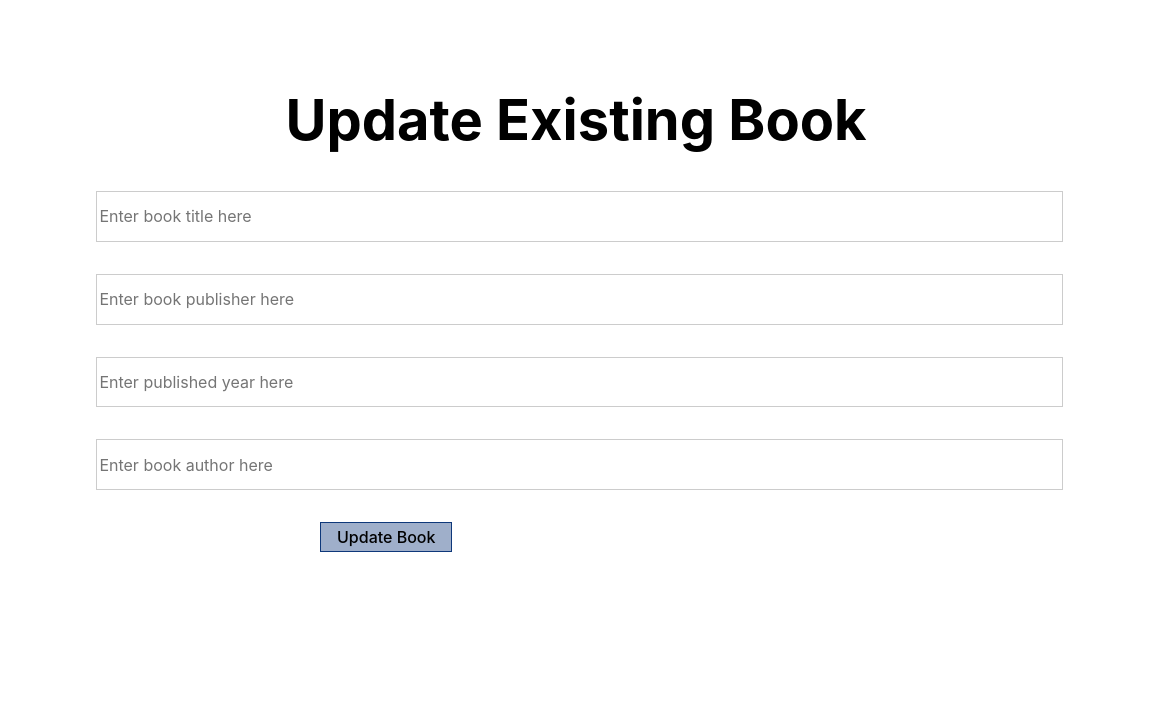
Test case: UpdateBook component › Test error message if atleast one input is invalid
The width and height of the screenshot is (1152, 720).
Set input values via the elements on the component
In the field with placeholder "Enter book title here": (579, 216) [96,191,1063,242], type "012345678901234567890123456789012345678912345"
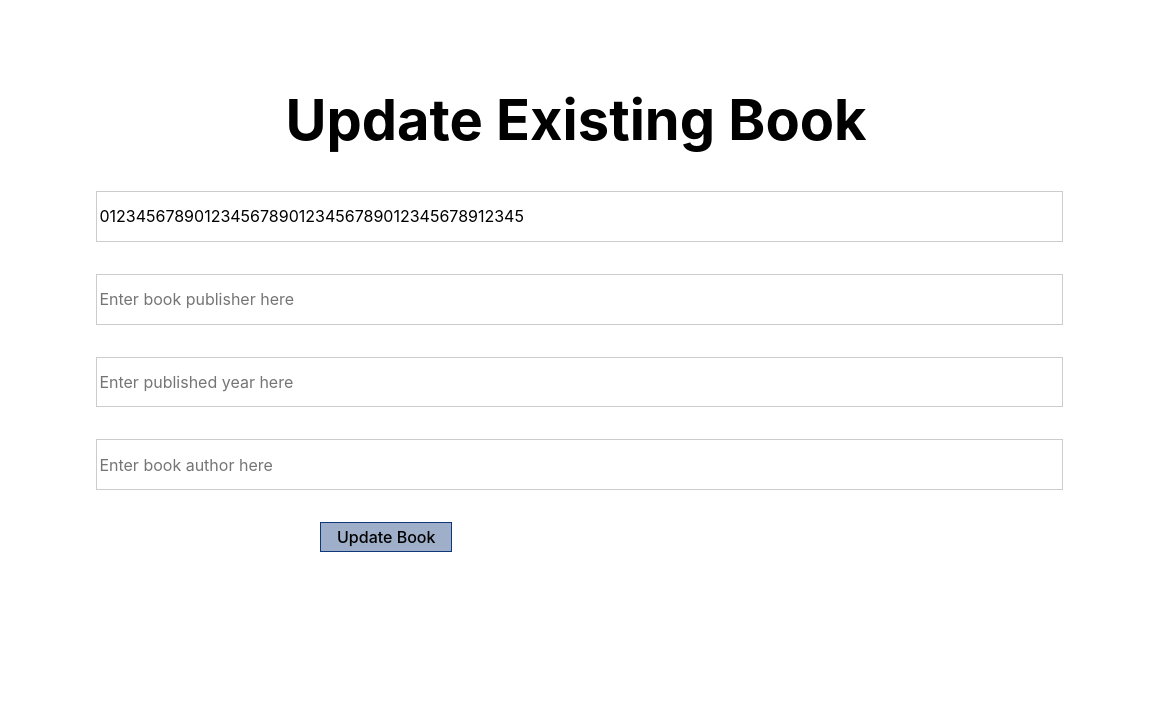
In the field with placeholder "Enter book publisher here": (579, 299) [96,274,1063,325], type "012345678901234567890123456789012345678912345"
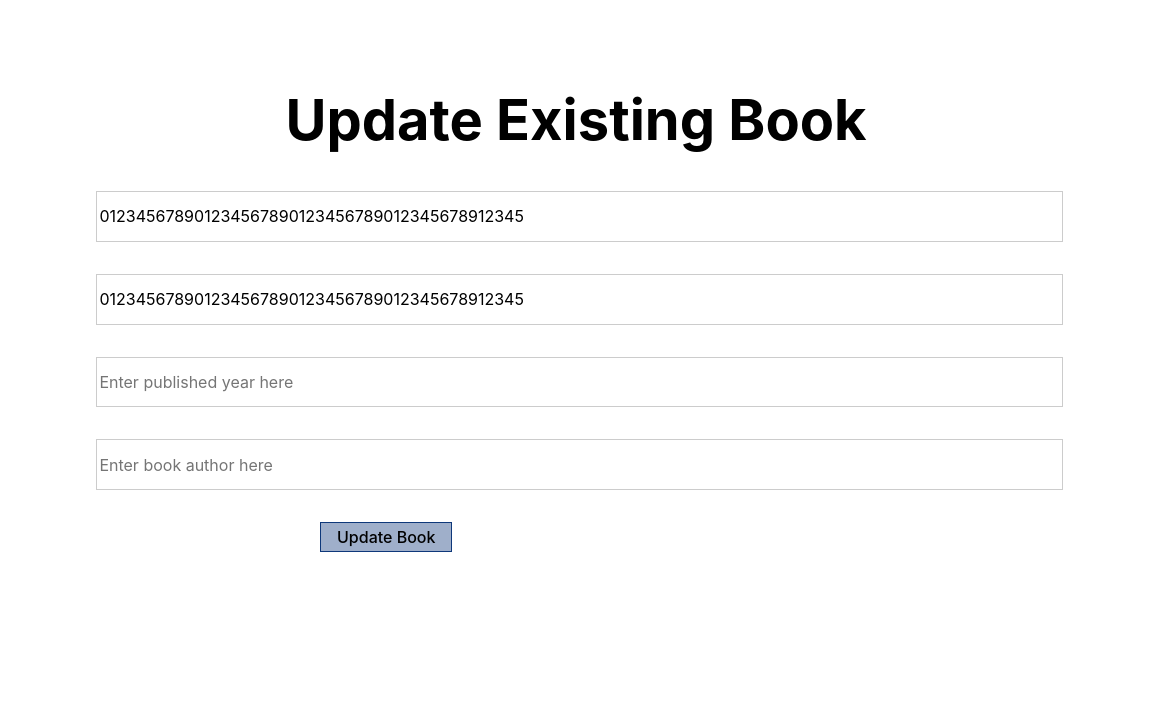
In the number field with placeholder "Enter published year here": (579, 382) [96,357,1063,407], type "2020"
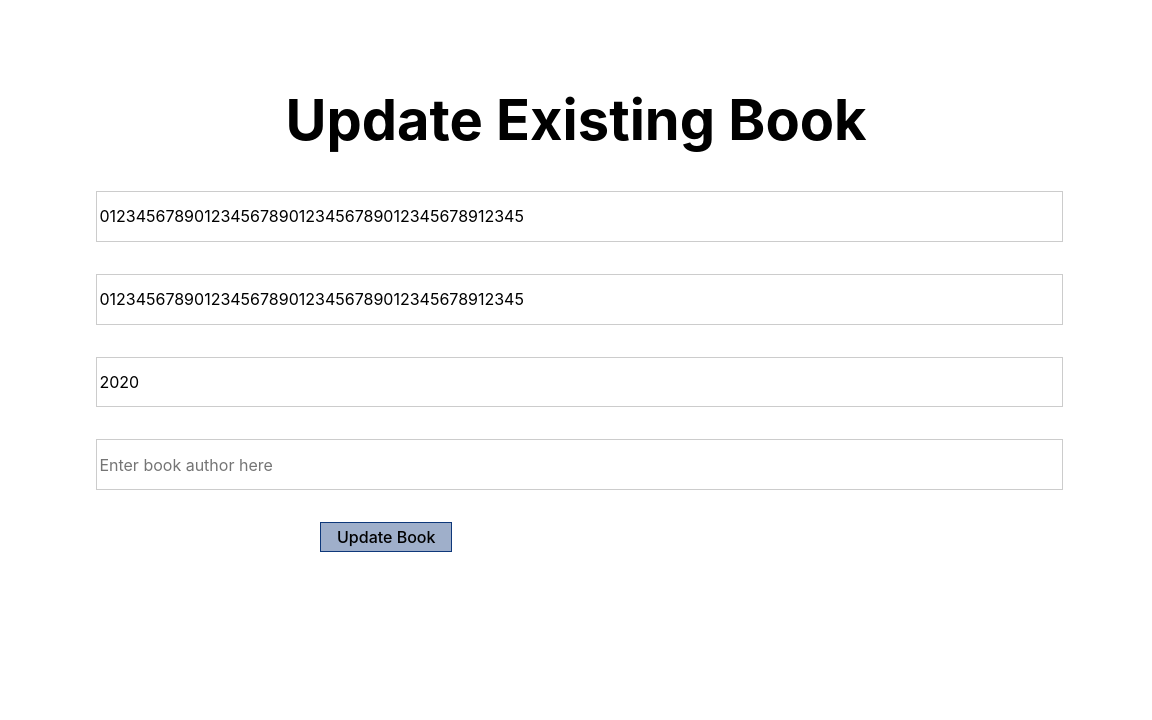
In the field with placeholder "Enter book author here": (579, 465) [96,439,1063,490], type "0123456789012345678901234567890123456789123456"
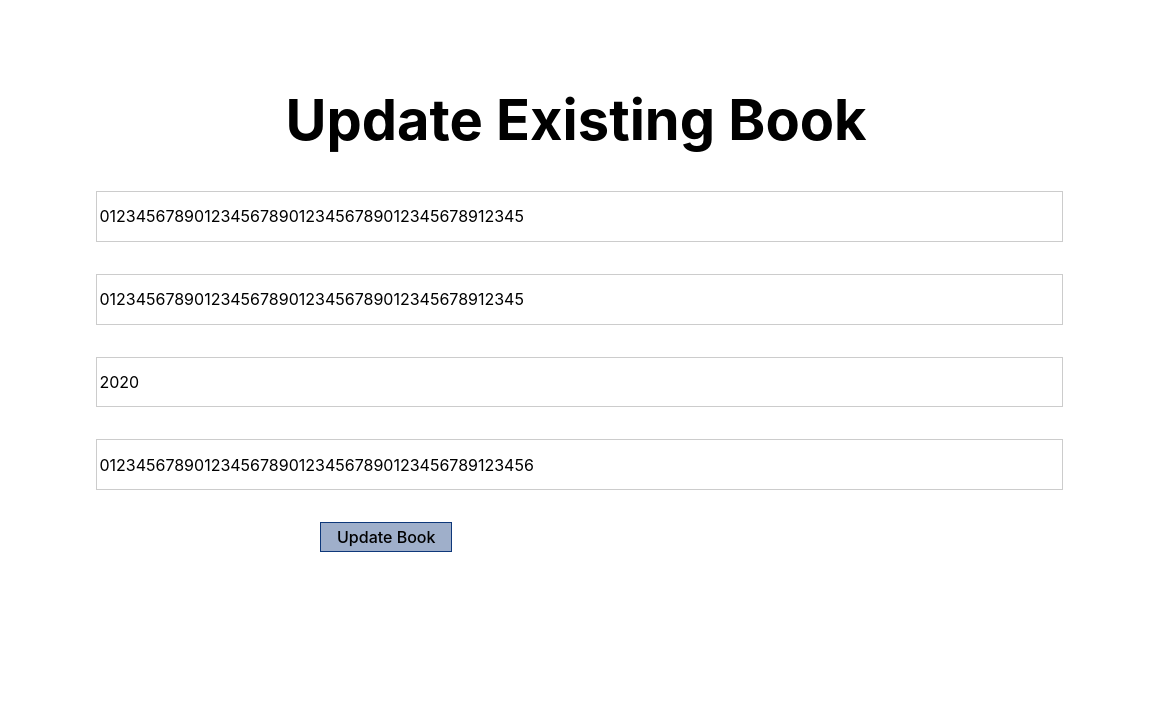
Click update book button on the component
Click the button "Update Book": click(386, 537) [320,522,452,552]
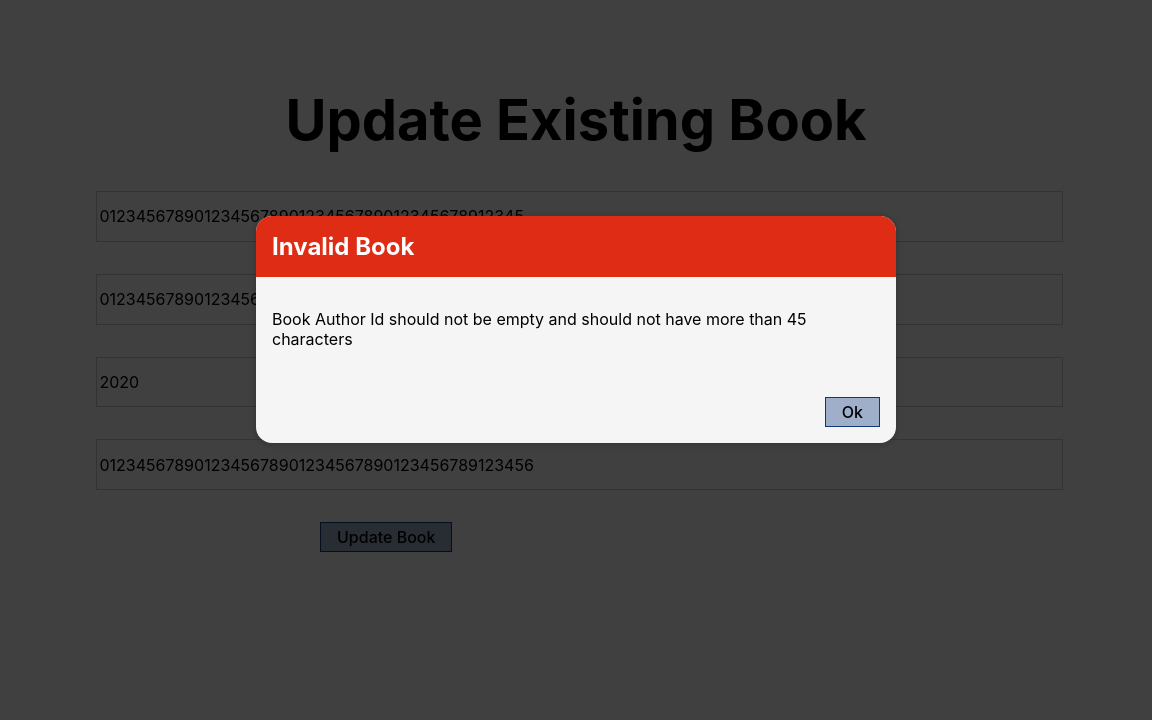
Check: the heading "Invalid Book" is shown, box [272,232,414,261]
Check: the text "Book Author Id should not be empty and should not have more than 45 characters" is shown, box [272,309,880,349]
